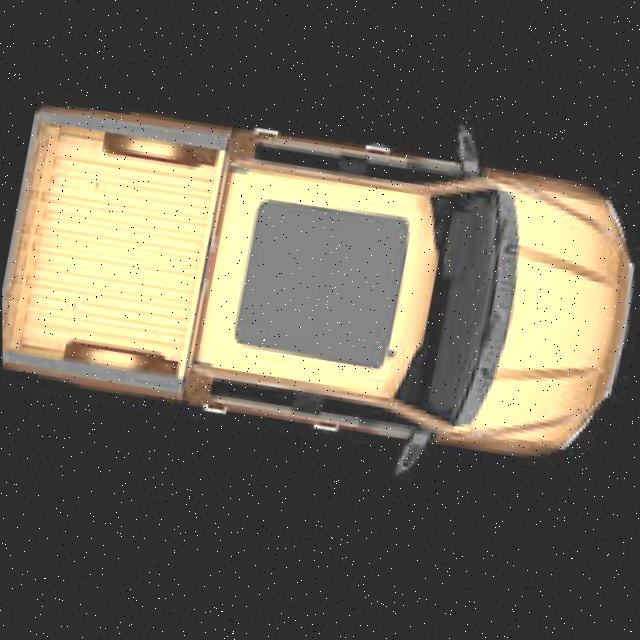truck: (1, 79, 640, 479)
